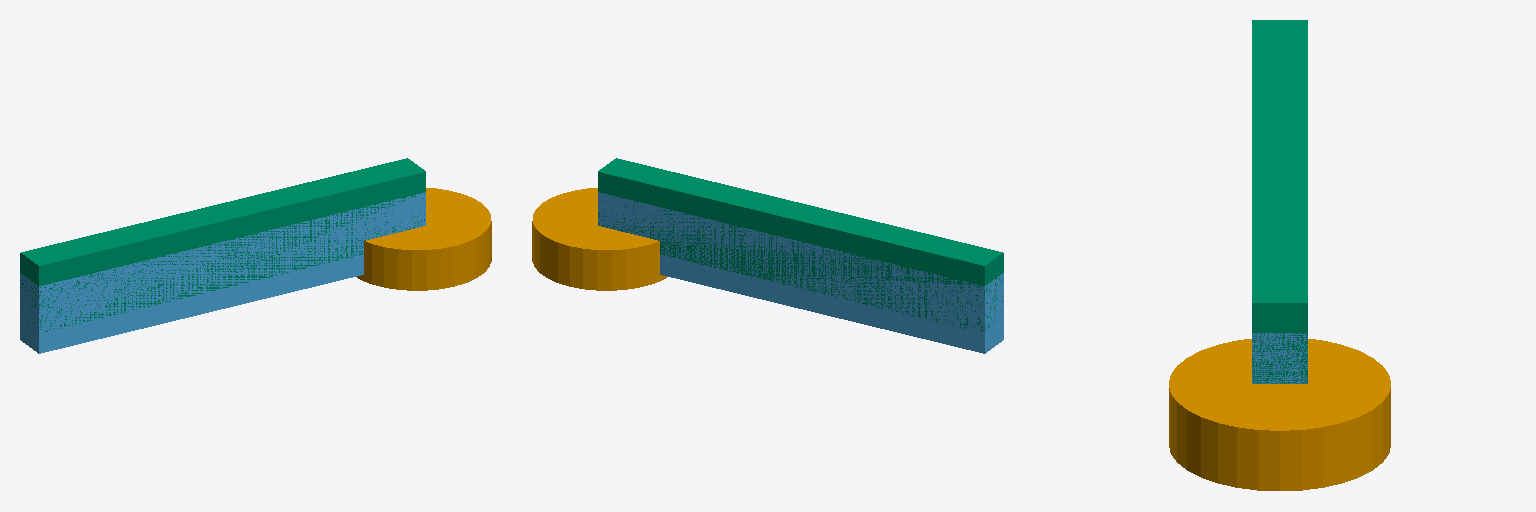
The robot description file, URDF, robot "roco_arm":
<?xml version="1.0"?>
<robot name="roco_arm">
  <link name="base_link">
    <visual>
      <geometry>
        <cylinder length="0.06" radius="0.1"/>
      </geometry>
    </visual>
  </link>

  <link name="first_segment">
    <visual>
      <geometry>
        <box size="0.6 0.05 0.1"/>
      </geometry>
      <origin rpy="0 0 0" xyz="-0.3 0 0" />
    </visual>
  </link>

  <link name="second_segment">
    <visual>
      <geometry>
        <box size="0.6 0.05 0.1"/>
      </geometry>
      <origin rpy="0 0 0" xyz="-0.3 0 0" />
    </visual>
  </link>

 

  <joint name="base_to_first" type="revolute">
    <axis xyz="0 1 0" />
    <limit effort="1000" lower="0" upper="3.14" velocity="0.5" />
    <parent link="base_link"/>
    <child link="first_segment"/>
    <origin xyz="0 0 0.03" />
  </joint>

<joint name="first_to_second" type="revolute">
    <axis xyz="0 1 0" />
    <limit effort="1000" lower="0" upper="3.14" velocity="0.5" />
    <parent link="first_segment"/>
    <child link="second_segment"/>
    <origin xyz="0 0 0.03" />
  </joint>

</robot>

--- Render facts (derived) ---
3 views of the same robot in one strip: view 1: azimuth 30°, elevation 25°; view 2: azimuth 150°, elevation 25°; view 3: azimuth 270°, elevation 25° (orthographic).
Model roco_arm with 3 links and 2 joints (2 revolute), rooted at base_link, posed all joints at 0.
Visible links, largest first — view 1: first_segment, second_segment, base_link; view 2: second_segment, first_segment, base_link; view 3: base_link, second_segment, first_segment.
Boxes of the visible links, x1=… form: first_segment: x1=20, y1=192, x2=425, y2=353; second_segment: x1=20, y1=158, x2=425, y2=331; base_link: x1=357, y1=188, x2=491, y2=290; second_segment: x1=598, y1=158, x2=1003, y2=331; first_segment: x1=598, y1=192, x2=1003, y2=353; base_link: x1=532, y1=188, x2=666, y2=290; base_link: x1=1169, y1=339, x2=1390, y2=490; second_segment: x1=1252, y1=20, x2=1307, y2=383; first_segment: x1=1252, y1=333, x2=1307, y2=383.
Size in the robot's own frame: 0.7 by 0.2 by 0.14 metres.
Geometry: primitives only (box / cylinder / sphere), no mesh files.
